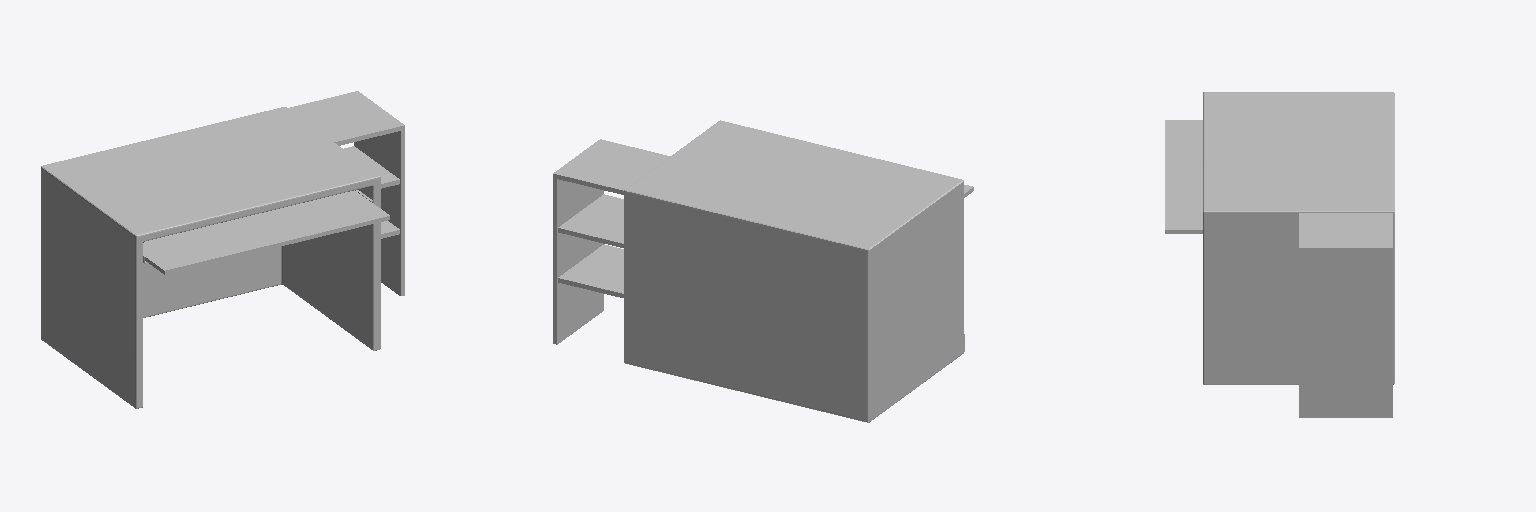
Rendered from desk4.obj.
3 views of the same model, side by side, from view 1: azimuth 30°, elevation 25°; view 2: azimuth 150°, elevation 25°; view 3: azimuth 270°, elevation 25° (orthographic).
Parts seen in each view (by area): view 1: BasicDesk_Sliding, Slide.001; view 2: BasicDesk_Sliding; view 3: BasicDesk_Sliding, Slide.001.
Part boxes in pixels (x1,y1,x2,y2): BasicDesk_Sliding: (41,91,404,408); Slide.001: (143,190,389,274); BasicDesk_Sliding: (553,120,964,422); BasicDesk_Sliding: (1203,92,1394,417); Slide.001: (1165,120,1202,233).
Size of the model in its own units: 3.01 by 1.58 by 1.89.